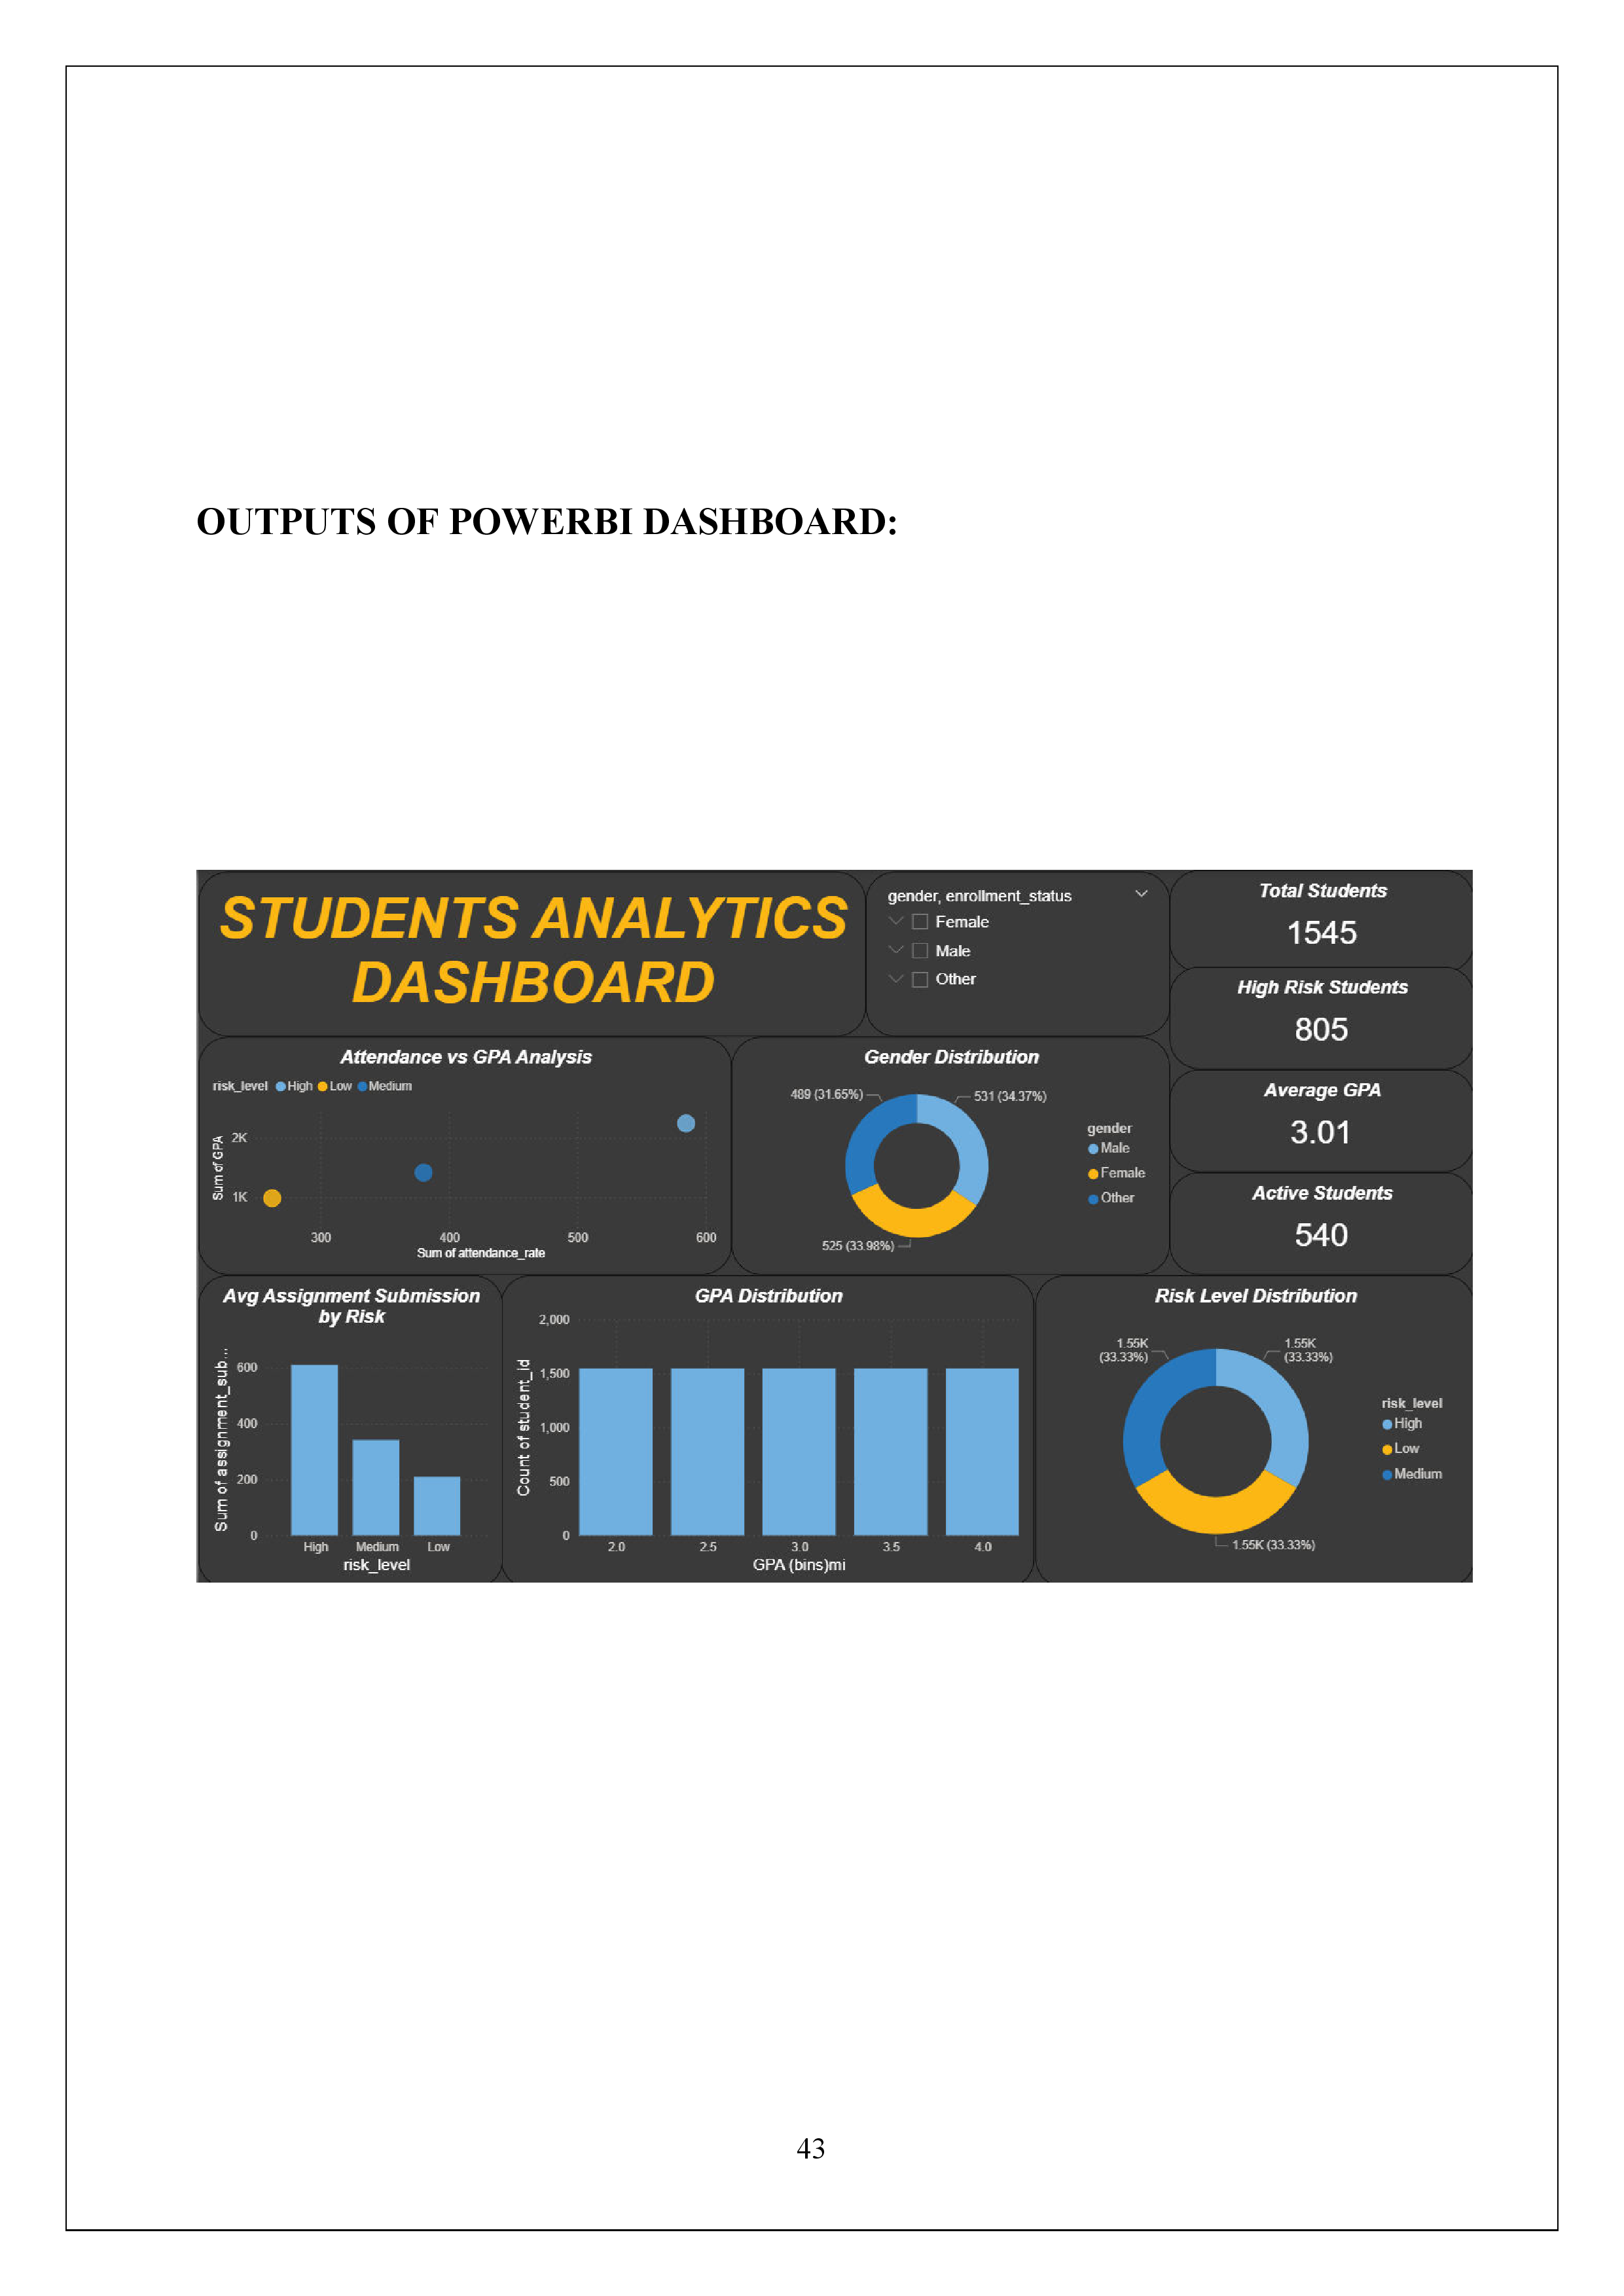

This screenshot's page, from the dashboard's own definition file:
{"tool":"powerbi","page":{"name":"Page 1","canvas":[1280,720],"ordinal":0},"visuals":[{"type":"card","title":"Total Students","fields":{"Values":["Count(coll_project academic_performance.student_id)"]},"box":[974.3,0,305.1,102.9],"z":0},{"type":"card","title":"Average GPA","fields":{"Values":["Avg(coll_project temp_students.GPA)"]},"box":[974.3,200.4,305.1,102.9],"z":1000},{"type":"card","title":"High Risk Students","fields":{"Values":["CountNonNull(coll_project temp_students.risk_level)"]},"box":[974.3,97.4,305.1,102.9],"z":2000},{"type":"card","title":"Active Students","fields":{"Values":["CountNonNull(coll_project temp_students.risk_level)"]},"box":[974.3,303.3,305.1,102.9],"z":3000},{"type":"donutChart","title":"Risk Level Distribution","fields":{"Category":["coll_project temp_students.risk_level"],"Y":["CountNonNull(coll_project students.student_id)"]},"box":[839.1,406.3,440.3,313.7],"z":4000},{"type":"clusteredColumnChart","title":"GPA Distribution","fields":{"Category":["coll_project temp_students.GPA (bins)"],"Y":["CountNonNull(coll_project engagement_metrics.student_id)"]},"box":[303.3,406.2,534.9,314.3],"z":5000},{"type":"scatterChart","title":"Attendance vs GPA Analysis","fields":{"X":["Sum(coll_project temp_students.attendance_rate)"],"Y":["Sum(coll_project temp_students.GPA)"],"Series":["coll_project temp_students.risk_level"],"Size":["Sum(coll_project engagement_metrics.lms_logins_past_month)"]},"box":[0,167.3,534.9,239],"z":6000},{"type":"clusteredColumnChart","title":"Avg Assignment Submission by Risk","fields":{"Category":["coll_project engagement_metrics.risk_level"],"Y":["Sum(coll_project engagement_metrics.assignment_submission_rate)"]},"box":[0,406.2,305.1,314.3],"z":7000},{"type":"donutChart","title":"Gender Distribution","fields":{"Category":["coll_project students.gender"],"Y":["CountNonNull(coll_project academic_performance.student_id)"]},"box":[534.9,167.3,439.3,239],"z":8000},{"type":"slicer","fields":{"Values":["coll_project students.gender","coll_project students.enrollment_status"]},"box":[669.1,1.8,305.1,165.4],"z":9000},{"type":"textbox","box":[0,1.8,669.1,165.4],"z":9001}]}

Visuals, with their boxes on the page's 1280x720 design canvas (x1, y1, x2, y2). These are canvas units, not pixel positions in the 1624x2296 screenshot, which may show the page scaled, cropped or inside an application window:
"Total Students" card: box=[974, 0, 1279, 103]
"Average GPA" card: box=[974, 200, 1279, 303]
"High Risk Students" card: box=[974, 97, 1279, 200]
"Active Students" card: box=[974, 303, 1279, 406]
"Risk Level Distribution" donutChart: box=[839, 406, 1279, 720]
"GPA Distribution" clusteredColumnChart: box=[303, 406, 838, 720]
"Attendance vs GPA Analysis" scatterChart: box=[0, 167, 535, 406]
"Avg Assignment Submission by Risk" clusteredColumnChart: box=[0, 406, 305, 720]
"Gender Distribution" donutChart: box=[535, 167, 974, 406]
slicer - coll_project students.gender x coll_project students.enrollment_status: box=[669, 2, 974, 167]
textbox: box=[0, 2, 669, 167]
